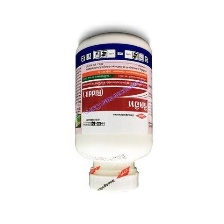insecticide: (73, 30, 157, 194)
